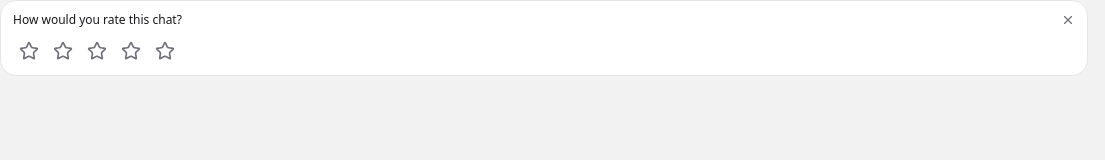
ChatRating row › skip inserts the rating with no comment
Click the radio button named "2 stars".
click(63, 51)  # box [47, 35, 79, 67]
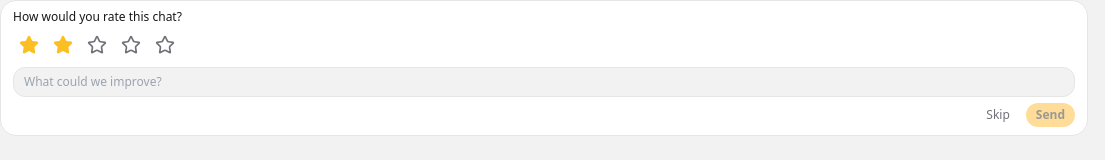
Click the button "Skip".
click(998, 115)  # box [976, 103, 1020, 127]
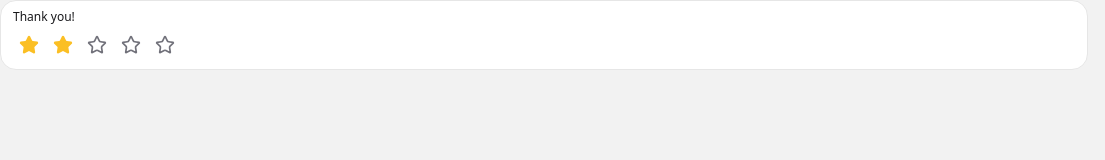
Check: the text "Thank you!" is shown, box [13, 9, 75, 25]
